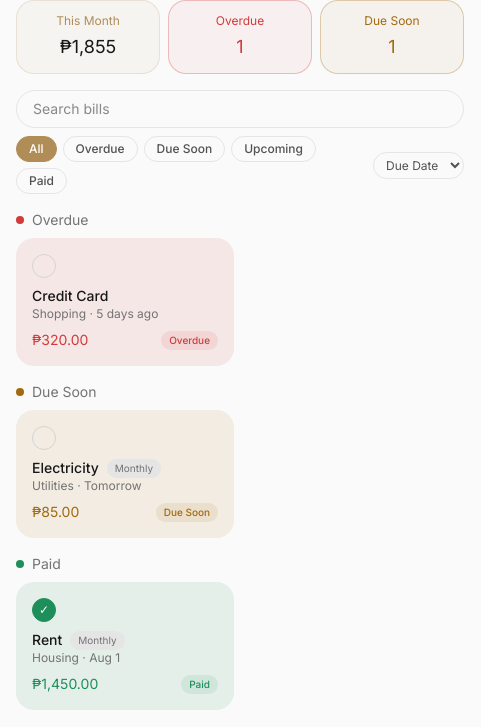
BillsListView › filters rows by status chip
This screenshot has width=481, height=727.
What coordinates should you click on to do the following:
click the button with test id "bills-filter-overdue"
I would click on:
 (100, 149)
Its box is [63,136,138,162].
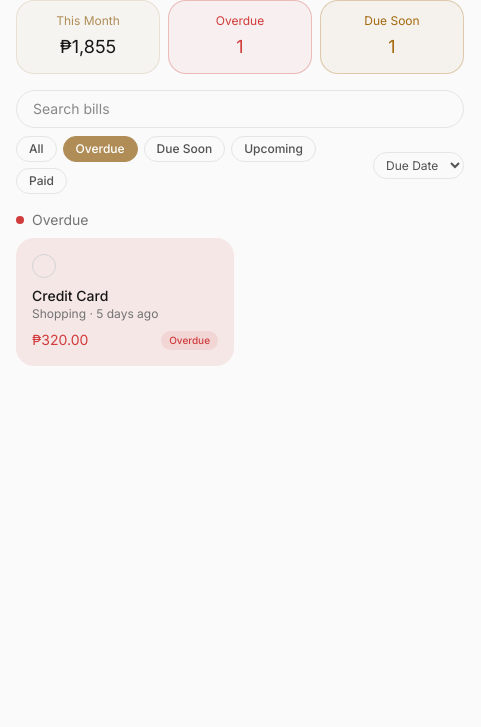
Result: the number of elements with test id "bill-row" is 1 at [16,238,234,366]
